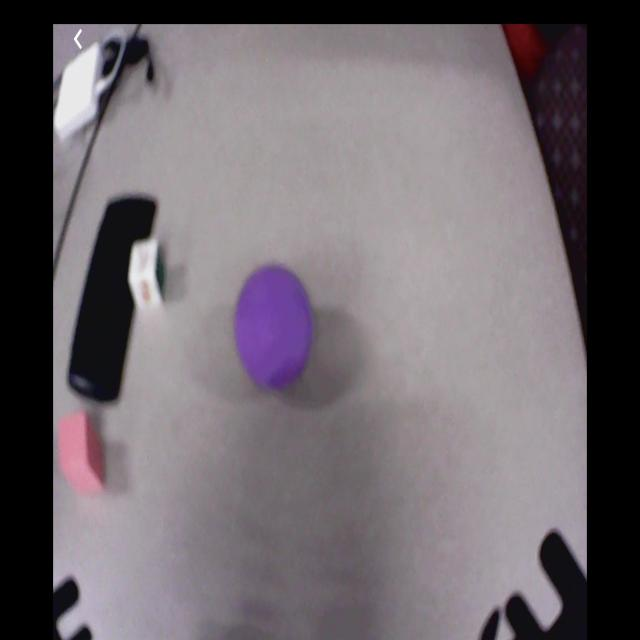ball: (234, 264, 315, 389)
